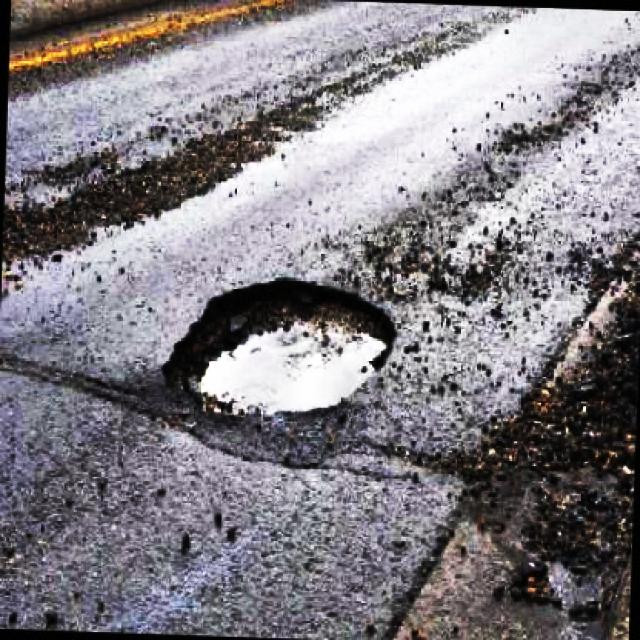pothole: (5, 112, 294, 262), (165, 271, 400, 426)
